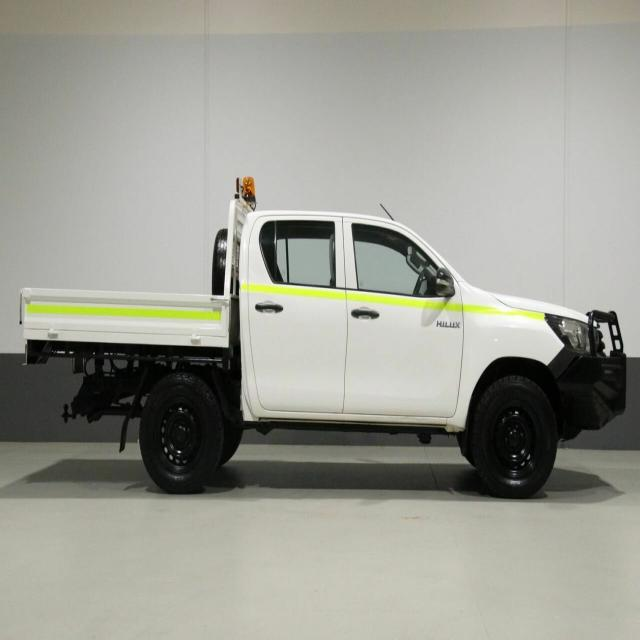light_vehicle: (13, 167, 639, 523)
